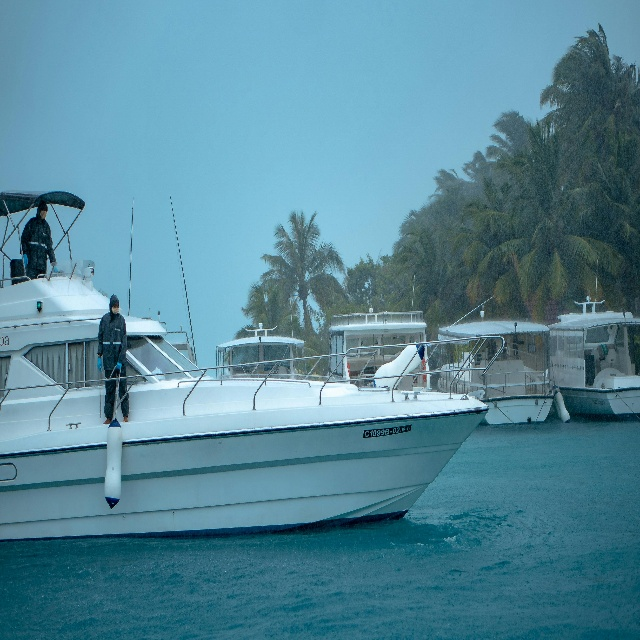Guantes: (23, 252, 28, 268), (97, 356, 102, 372), (116, 361, 122, 370), (53, 264, 57, 274)
Mascara: (40, 209, 47, 220), (111, 306, 119, 315)
